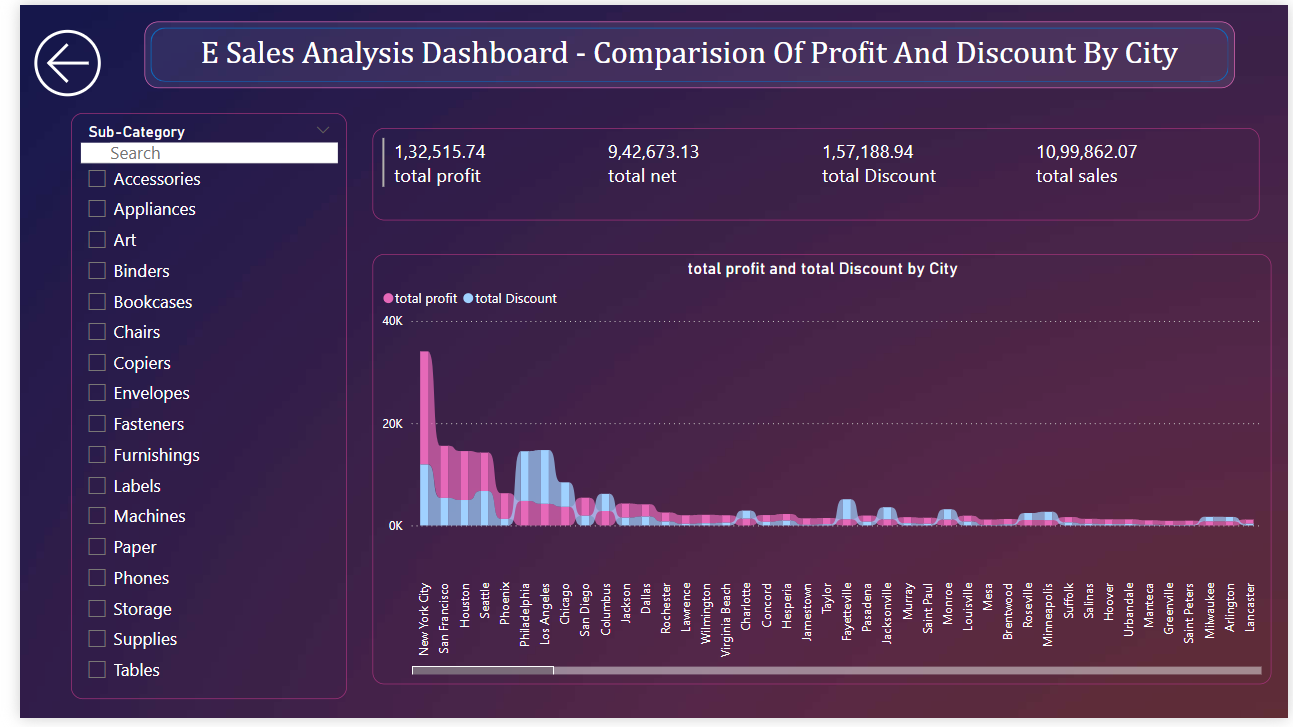

The dashboard page shown, as its layout file describes it:
{"tool":"powerbi","page":{"name":"Page 5","canvas":[1280,720],"ordinal":3},"visuals":[{"type":"ribbonChart","fields":{"Y":["measure.total profit","Orders.m Discount"],"Category":["Customer.City"]},"box":[355.6,251.9,908.2,434.8],"z":0},{"type":"slicer","fields":{"Values":["Product.Sub-Category"]},"box":[51.1,108.9,278.8,592.2],"z":1000},{"type":"shape","box":[126,16.3,1101.2,67],"z":2000},{"type":"multiRowCard","fields":{"Values":["measure.total profit","measure.total net","Orders.m Discount","measure.total sales"]},"box":[355.6,123.9,896,93.5],"z":3000},{"type":"actionButton","box":[0,0,99.6,109.7],"z":4000}]}

Visuals, with their boxes in screenshot pixels (x1, y1, x2, y2), scaled from the page's 1280x720 canvas onto the 1293x727 screenshot:
ribbonChart - measure.total profit x Orders.m Discount: locate(359, 254, 1277, 693)
slicer - Product.Sub-Category: locate(52, 110, 333, 708)
shape: locate(127, 16, 1240, 84)
multiRowCard - measure.total profit x measure.total net: locate(359, 125, 1264, 220)
actionButton: locate(0, 0, 101, 111)
